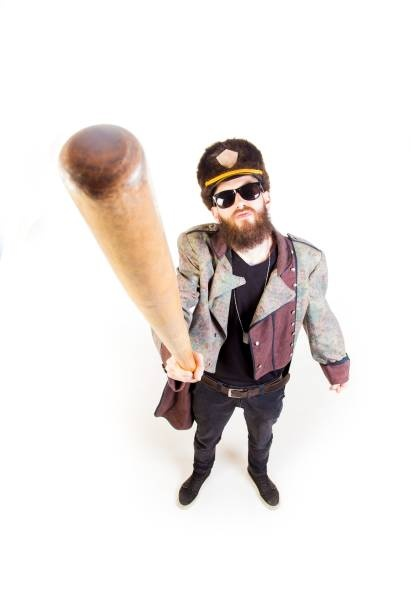bita: (62, 115, 197, 379)
